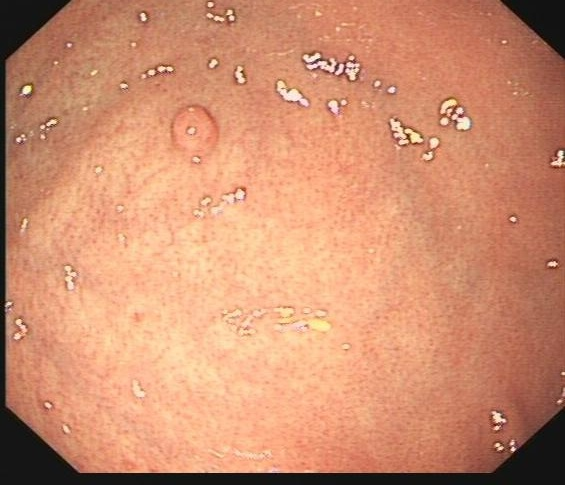Polyp: (170, 102, 221, 154)
